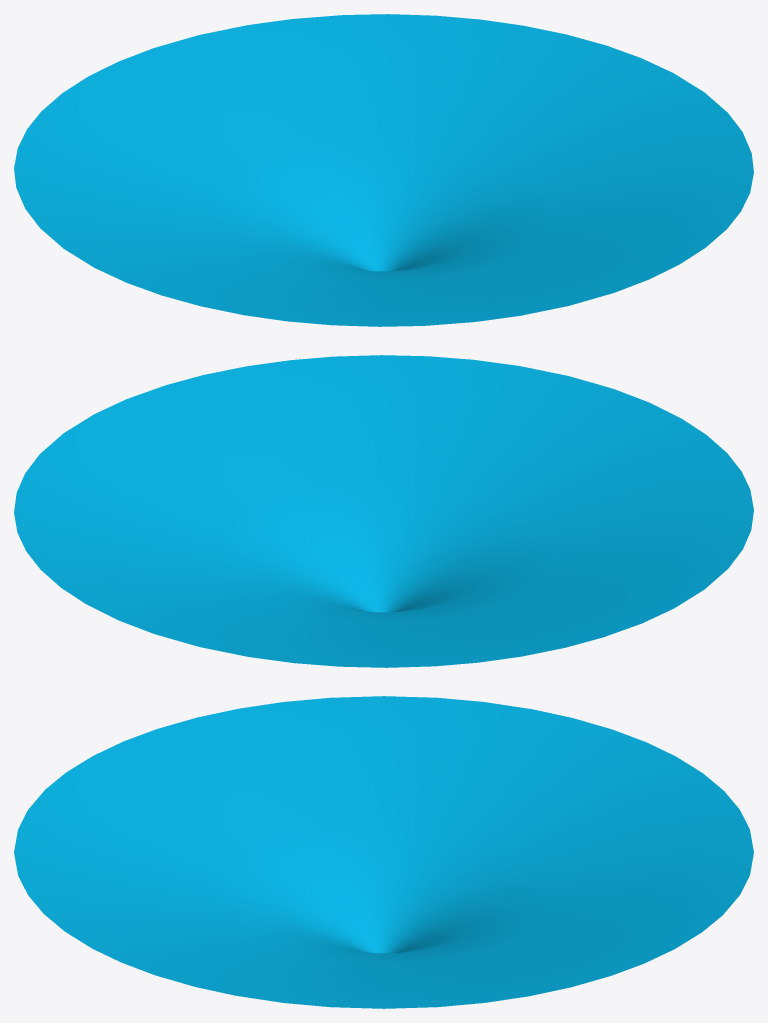
File: superficie.fbx
3 views of the same model, one above another, from view 1: azimuth 30°, elevation 25°; view 2: azimuth 150°, elevation 25°; view 3: azimuth 270°, elevation 25° (orthographic).
Parts seen in each view (by area): view 1: polySurface72; view 2: polySurface72; view 3: polySurface72.
Boxes of the visible parts, x1,y1,x2,y2 form: polySurface72: (14, 14, 753, 326); polySurface72: (14, 355, 753, 667); polySurface72: (14, 696, 753, 1008).
Size of the model in its own units: 26.61 by 5.01 by 26.61.
